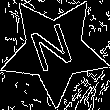N_S: (28, 20, 81, 80)
